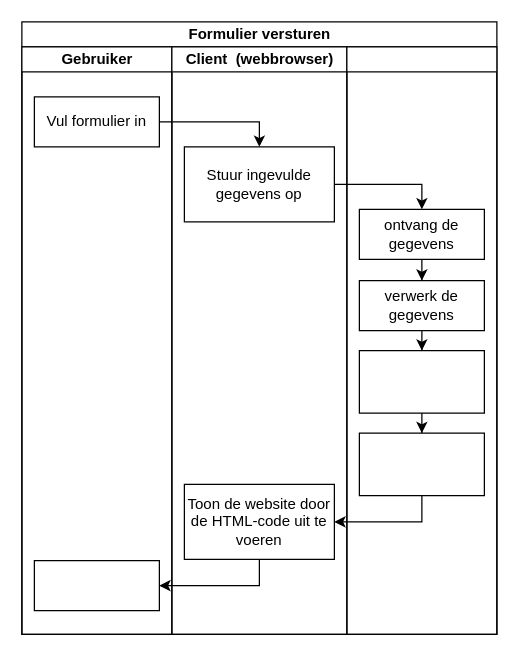
Image size: 519x656. Some labels were removed from this diagram. The shapes that lost their labels are listed below. From the top down, each one's box as (x1, y1, x2, y2) in pixels, then its label:
(346, 46, 497, 634): Server (Apache)
(358, 349, 484, 413): vul gegevens in in een HTML-bestand
(358, 432, 484, 496): stuur het HTML-bestand terug
(33, 559, 159, 611): Bekijk de website
